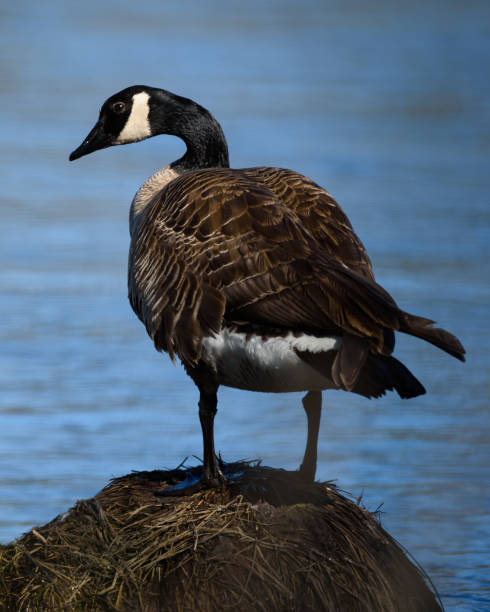goose: (61, 82, 471, 497)
